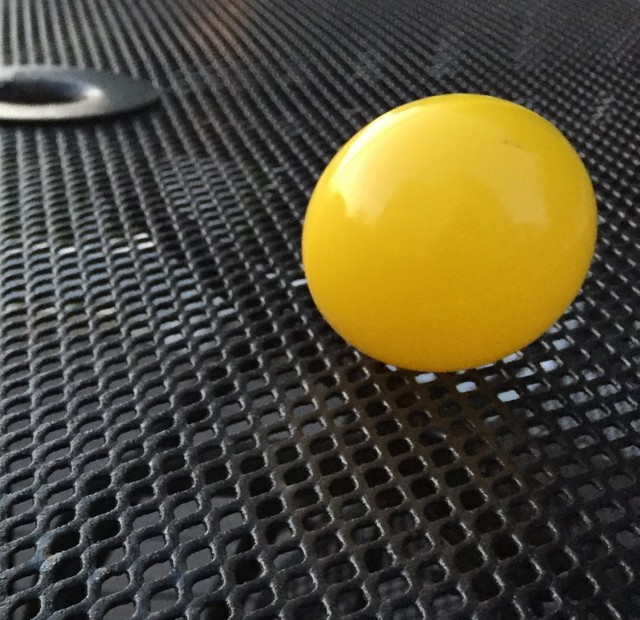Ball: (305, 91, 596, 367)
